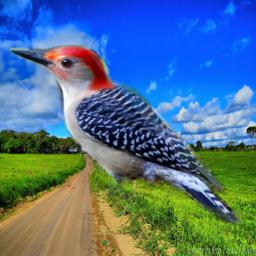Woodpecker: (10, 45, 241, 224)
